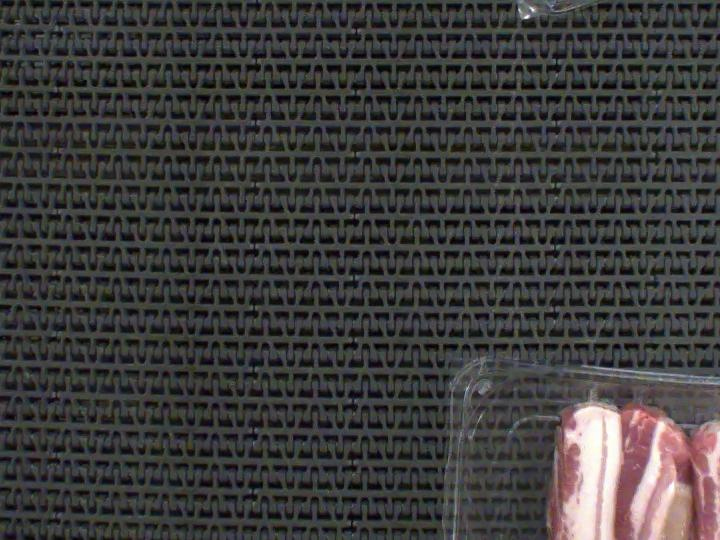packaging-error: (570, 380, 611, 402), (627, 382, 653, 411), (713, 389, 720, 426)
